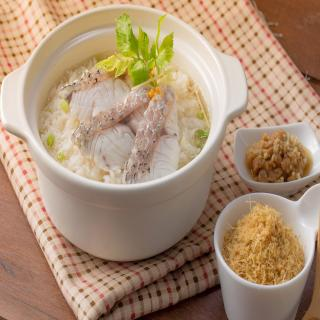boiled_rice: (36, 12, 215, 196)
carbs: (182, 64, 207, 180), (43, 85, 74, 171)
meat: (60, 70, 182, 178)
veg: (90, 15, 178, 82)
